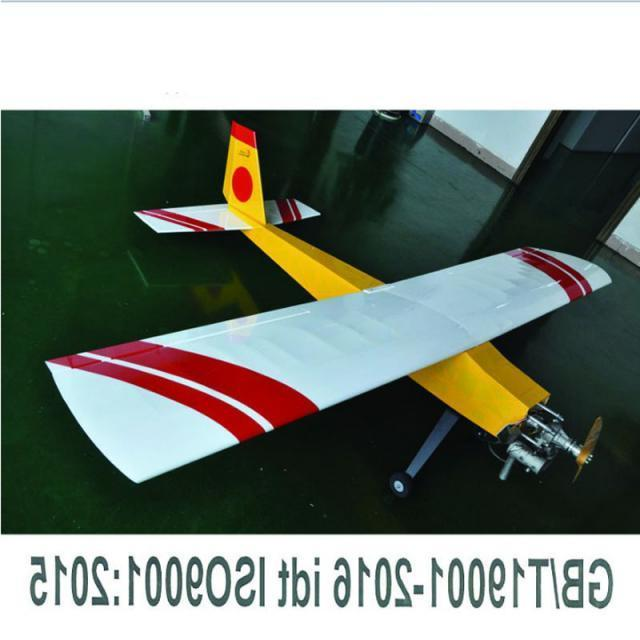UAV: (118, 204, 592, 488)
